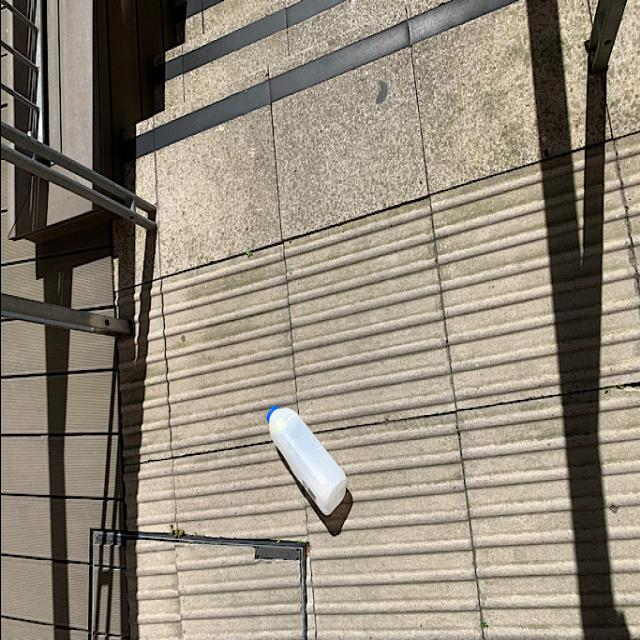litter: (260, 402, 348, 512)
